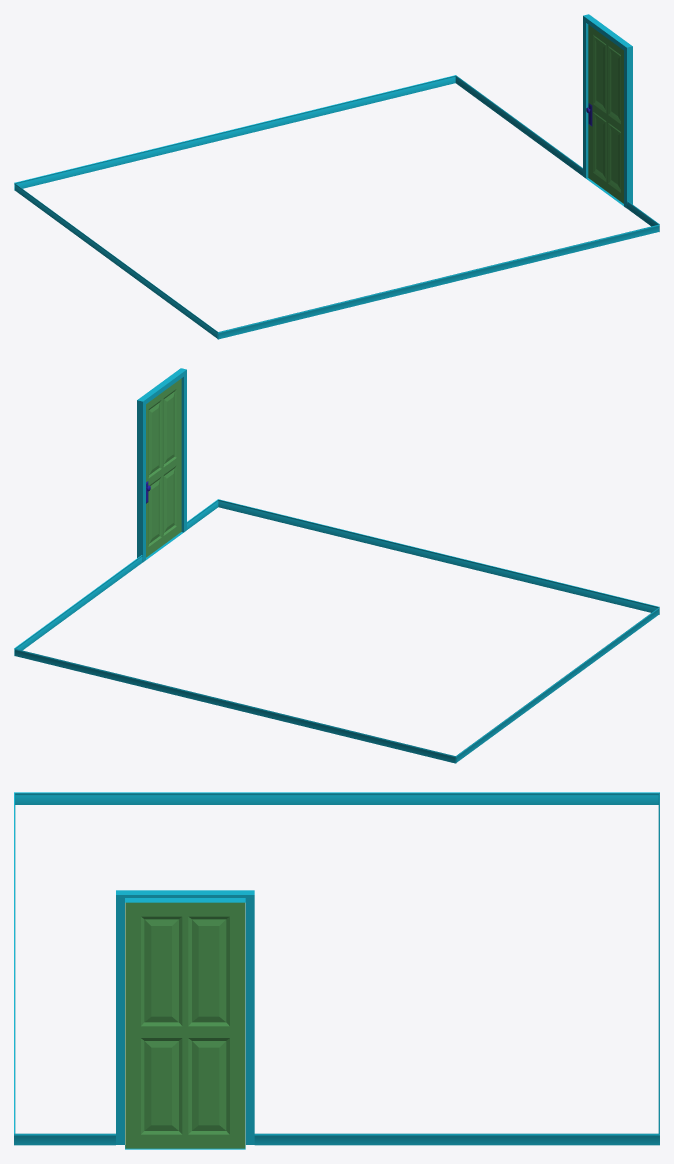
File: Office Molding and Door.FBX
3 renders of one model, top to bottom at view 1: azimuth 30°, elevation 25°; view 2: azimuth 150°, elevation 25°; view 3: azimuth 270°, elevation 25°, orthographic. The views are drawn at different scales.
Visible parts, largest first — view 1: Box008, Box007, Box004, Object003, Object004, Box002, Box005, Box003, Object002, Object001; view 2: Box008, Box007, Box002, Object004, Box004, Object003, Box005, Box003, Object002; view 3: Box008, Box007, Box005, Box003, Object002, Box006, Object001.
Boxes of the visible parts, bbox=[...] form: Box008: bbox=[588, 24, 623, 203]; Box007: bbox=[583, 21, 632, 208]; Box004: bbox=[235, 75, 455, 136]; Object003: bbox=[14, 129, 235, 190]; Object004: bbox=[217, 278, 439, 339]; Box002: bbox=[439, 224, 659, 285]; Box005: bbox=[455, 75, 582, 175]; Box003: bbox=[14, 183, 116, 264]; Object002: bbox=[116, 258, 218, 339]; Object001: bbox=[583, 14, 632, 52]; Box008: bbox=[146, 378, 181, 557]; Box007: bbox=[137, 374, 186, 562]; Box002: bbox=[218, 499, 438, 560]; Object004: bbox=[438, 553, 659, 614]; Box004: bbox=[14, 648, 235, 709]; Object003: bbox=[235, 702, 456, 763]; Box005: bbox=[14, 555, 142, 655]; Box003: bbox=[455, 681, 557, 763]; Object002: bbox=[557, 607, 659, 688]; Box008: bbox=[125, 902, 245, 1148]; Box007: bbox=[116, 898, 254, 1149]; Box005: bbox=[254, 1133, 659, 1145]; Box003: bbox=[336, 792, 659, 804]; Object002: bbox=[14, 792, 335, 804]; Box006: bbox=[14, 1133, 115, 1145]; Object001: bbox=[116, 890, 254, 897].
Bounding box in the file's own units: 20.23 × 6.97 × 16.
